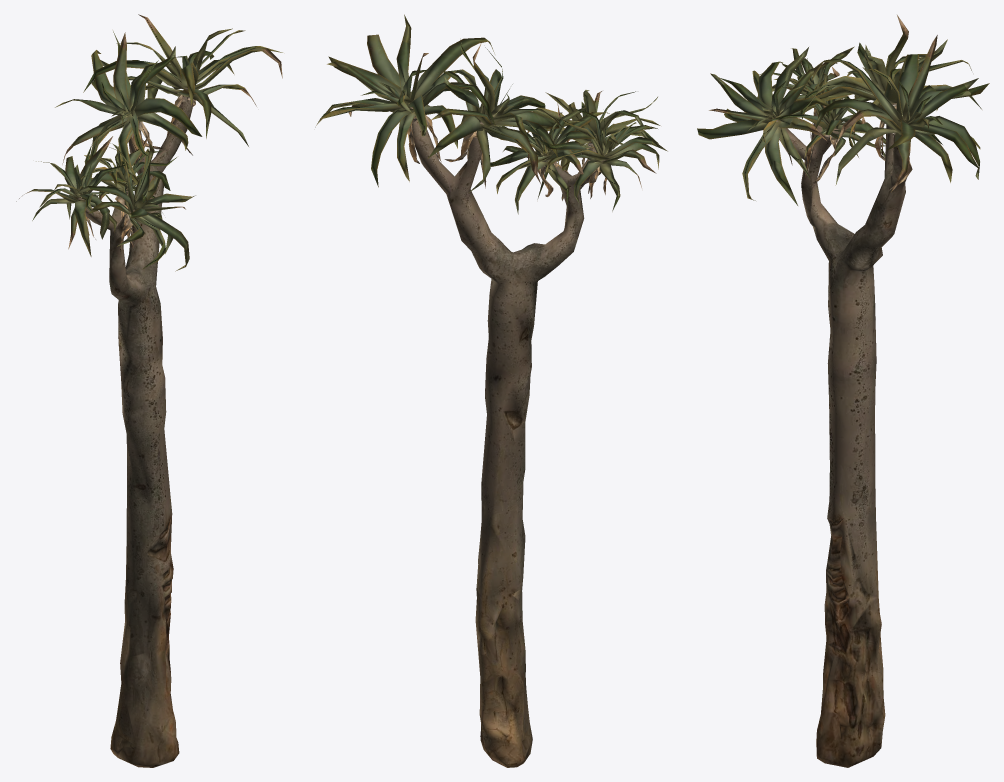
Rendered from quiver.glb.
3 renders of one model, left to right at view 1: azimuth 30°, elevation 25°; view 2: azimuth 150°, elevation 25°; view 3: azimuth 270°, elevation 25°, orthographic. The views are drawn at different scales.
Parts seen in each view (by area): view 1: quiver_tree_01; view 2: quiver_tree_01; view 3: quiver_tree_01.
Boxes of the visible parts, box(x1,y1,x2,y2) form: quiver_tree_01: box(16, 14, 282, 767); quiver_tree_01: box(315, 14, 667, 767); quiver_tree_01: box(697, 15, 989, 767).
Size of the model in its own units: 1.18 by 2.72 by 0.9623.
Materials: 2 (2 with a texture image).
